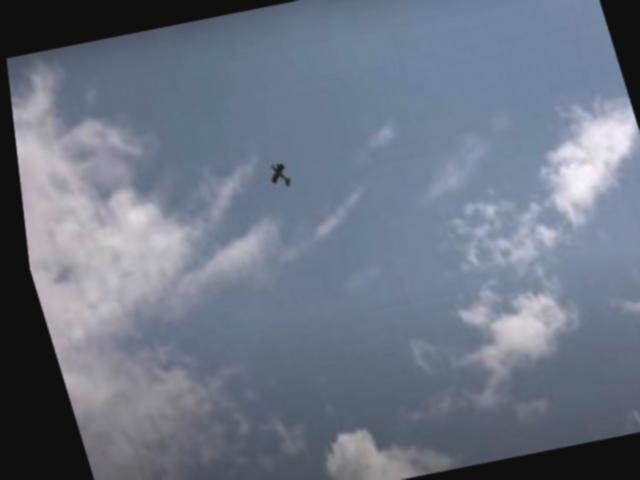uav: (262, 158, 290, 192)
